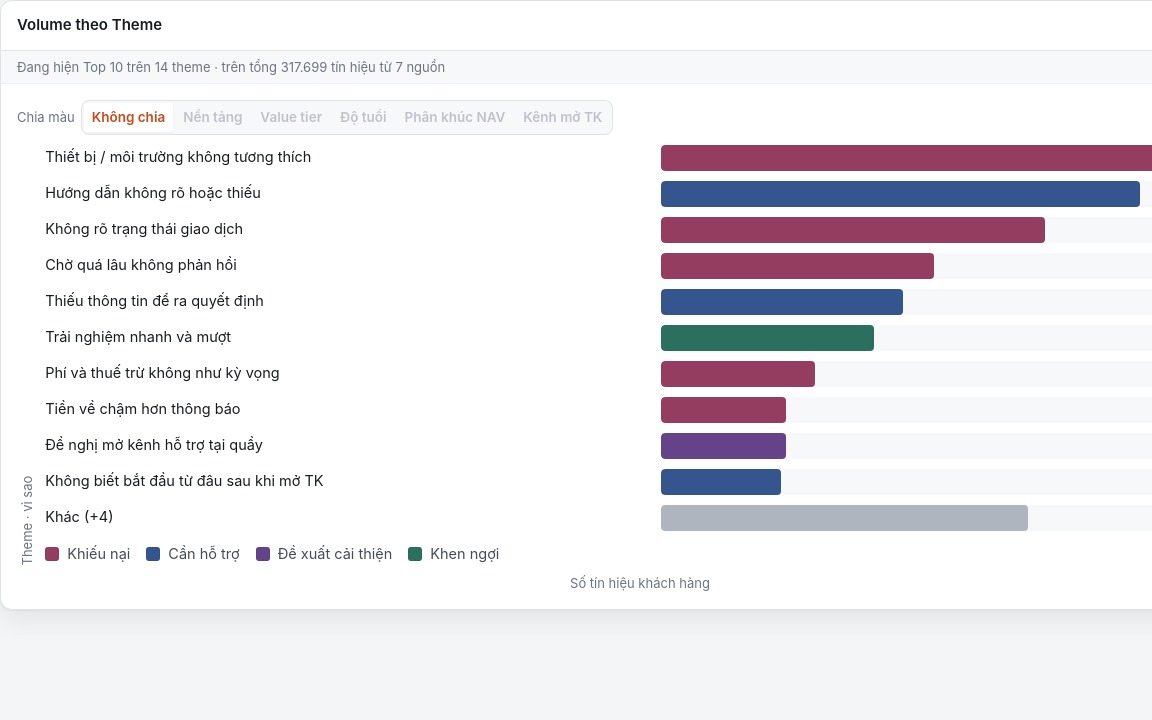
Test case: QuantifyWidget — drill-down trục agg (bằng chứng là TẬP MẪU) › hàng KHÔNG có bằng chứng nào (10/14 theme rơi vào ca này) → nói ra trần của tập mẫu, không panel trắng
The width and height of the screenshot is (1152, 720).
Click the button "Chờ quá lâu không phản hồi 1,2K": x=141, y=265 [45,253,1151,279]
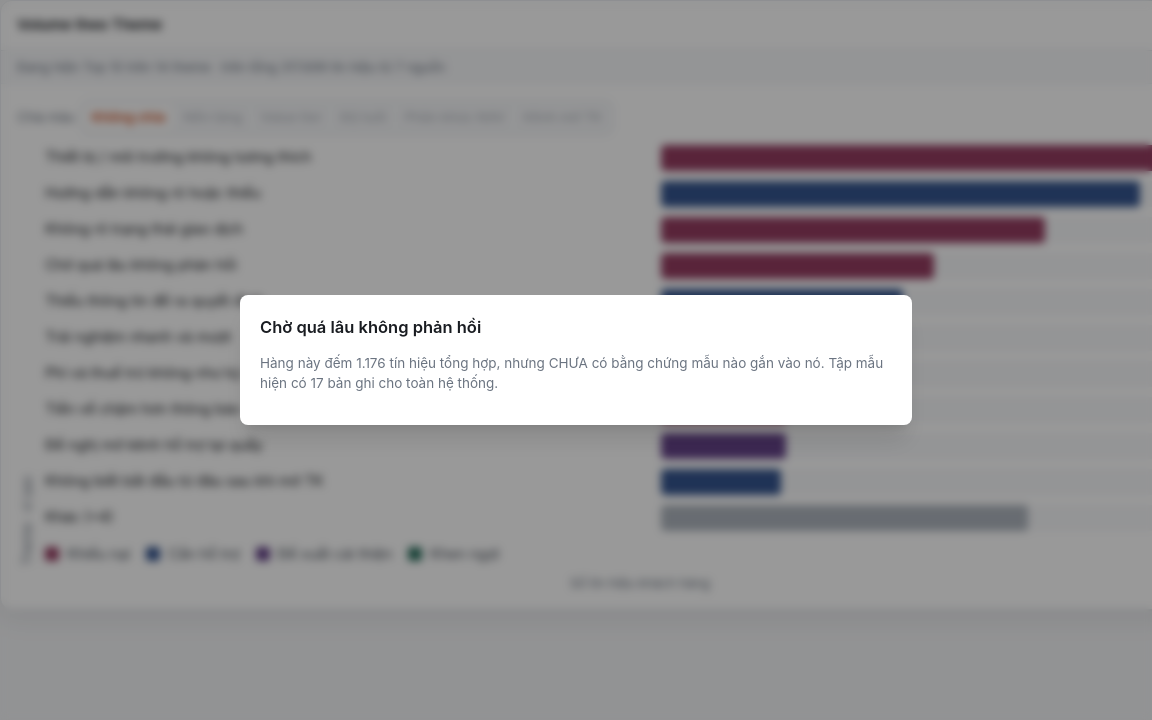
Expected: the text with test id "drill-denom" shows "CHƯA có bằng chứng mẫu nào", [260,354,883,391]
Expected: the text with test id "drill-denom" shows "17 bản ghi", [260,354,883,391]
